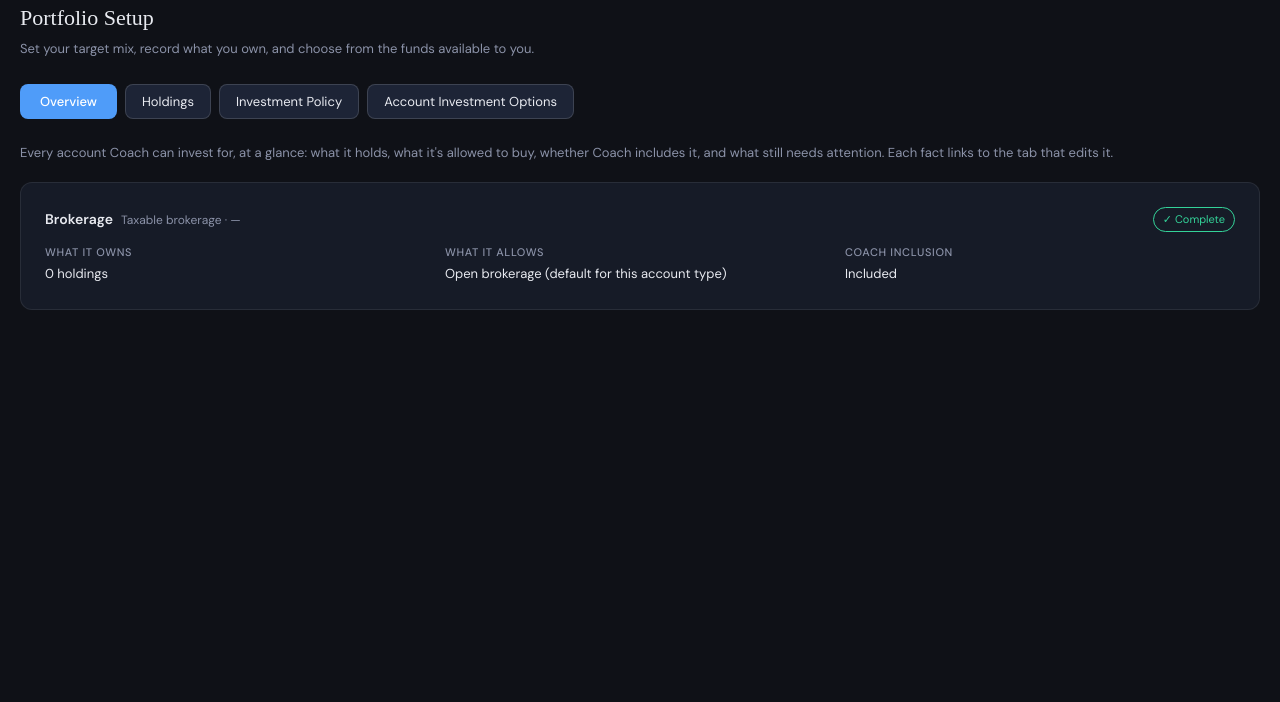
PortfolioSetup workflows › labels whether ticker lookup uses a live provider or the offline catalog
The width and height of the screenshot is (1280, 702).
Click the button "Holdings": (168, 102) [125,84,211,119]
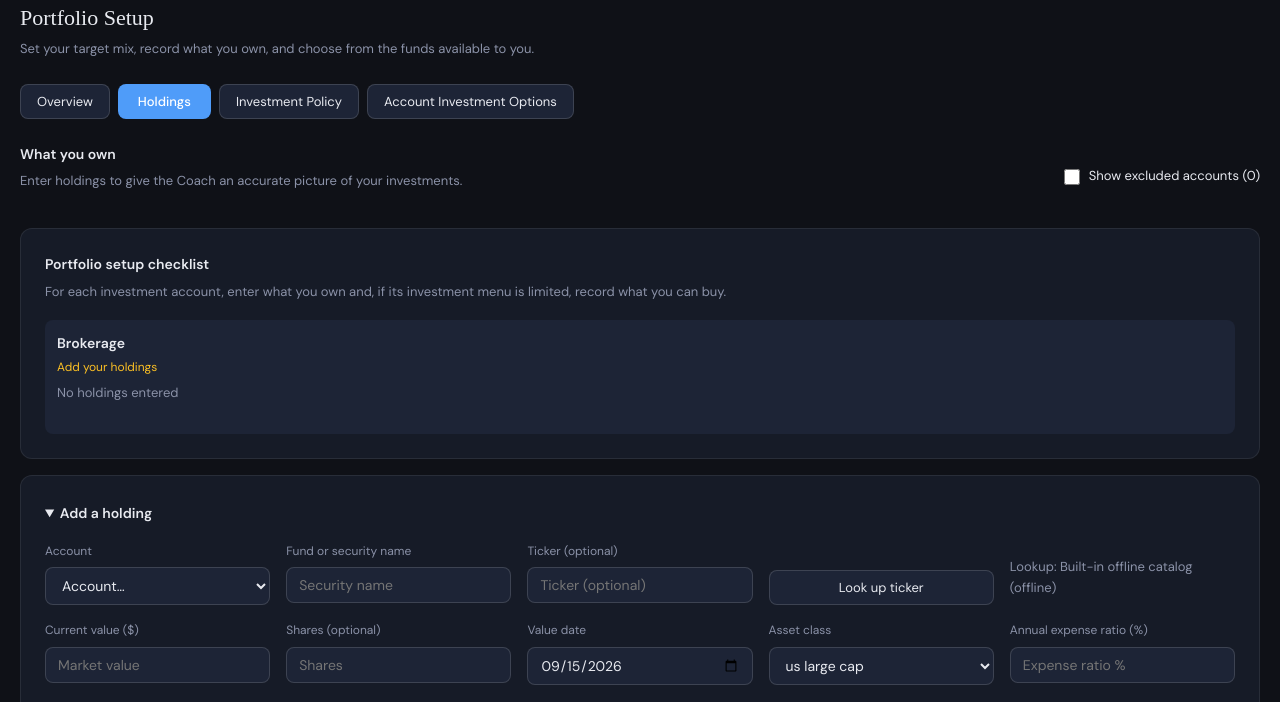
Check: the text "Lookup: Built-in offline catalog (offline)" is shown, box [1010,558,1192,596]
